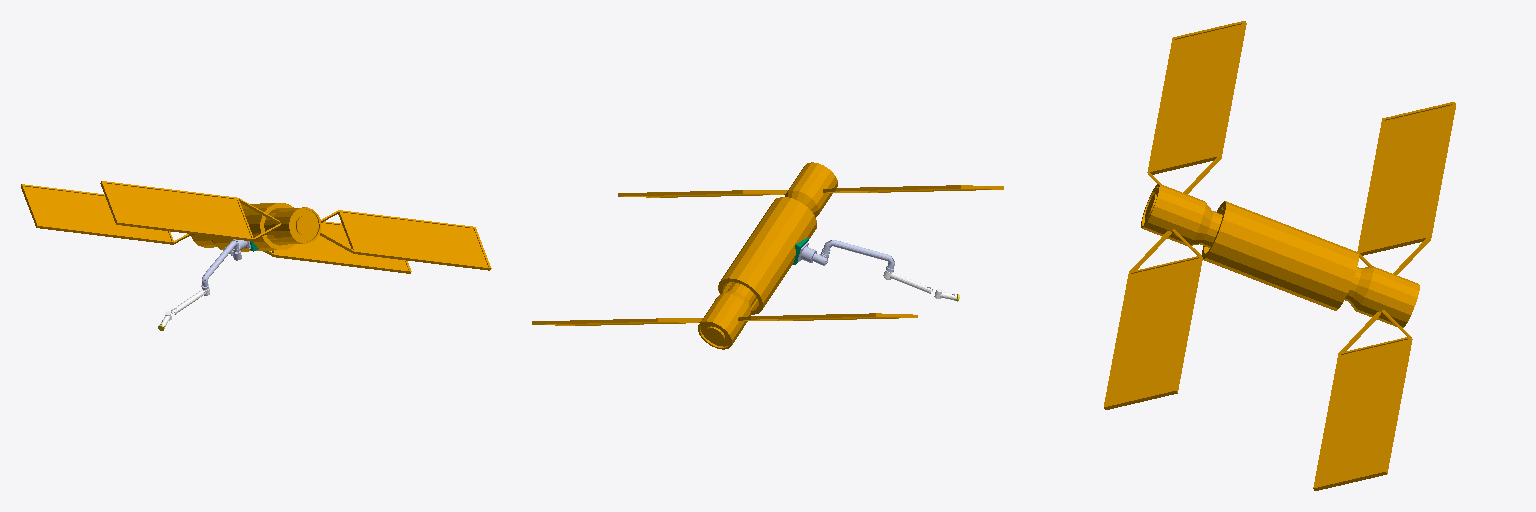
URDF robot description (satellite_13__starlink_sldasm9):
<?xml version='1.0' encoding='utf-8'?>
<robot name="satellite_13__starlink_sldasm9">
  <link name="base_link">
    <visual>
      <geometry>
        <mesh filename="../satellites/satellite_13/satellite.stl" />
      </geometry>
    </visual>
    <collision>
      <geometry>
        <mesh filename="../satellites/satellite_13/satellite.stl" />
      </geometry>
    </collision>
  </link>
  <link name="satellite_13_mount" />
  <joint name="satellite_mount_fixed" type="fixed">
    <parent link="base_link" />
    <child link="satellite_13_mount" />
    <origin xyz="-0.4318182499635565 -0.4150752094962243 0.029176153837355293" rpy="-3.141592653589793 -1.325373661799296 -3.034633267420518" />
  </joint>
  <link name="mount_support">
    <visual>
      <geometry>
        <mesh filename="../satellites/satellite_13/mount_support.stl" />
      </geometry>
    </visual>
    <collision>
      <geometry>
        <mesh filename="../satellites/satellite_13/mount_support.stl" />
      </geometry>
    </collision>
  </link>
  <joint name="support_fixed" type="fixed">
    <parent link="satellite_13_mount" />
    <child link="mount_support" />
    <origin xyz="0 0 0" rpy="0 0 0" />
  </joint>
  <joint name="arm_adapter_fixed" type="fixed">
    <parent link="satellite_13_mount" />
    <child link="starlink_space_manipulator_base_link" />
    <origin xyz="0.009087204933166504 0.008519247174263 0.16000000119209304" rpy="-1.5707963267948966 0 0.0" />
  </joint>
  <link name="starlink_space_manipulator_base_link">
    <inertial>
      <origin xyz="-0.00908719924946466 0.0225428225681148 -0.00851924929637313" rpy="0 0 0" />
      <mass value="8.66024015898073" />
      <inertia ixx="0.0960303512697639" ixy="1.65511904636803E-18" ixz="6.22039820639877E-19" iyy="0.103454922260914" iyz="-9.68471289978311E-19" izz="0.0960303512697639" />
    </inertial>
    <visual>
      <origin xyz="0 0 0" rpy="0 0 0" />
      <geometry>
        <mesh filename="../arms/starlink_sldasm9/meshes/starlink_space_manipulator_base_link.STL" />
      </geometry>
      <material name="">
        <color rgba="0.792156862745098 0.819607843137255 0.933333333333333 1" />
      </material>
    </visual>
    <collision>
      <origin xyz="0 0 0" rpy="0 0 0" />
      <geometry>
        <mesh filename="../arms/starlink_sldasm9/meshes/starlink_space_manipulator_base_link.STL" />
      </geometry>
    </collision>
  </link>
  <link name="starlink_space_manipulator_Shoulder_link_1">
    <inertial>
      <origin xyz="-0.000399471745595769 -0.100006574194712 -0.17423940484461" rpy="0 0 0" />
      <mass value="5.16309216784981" />
      <inertia ixx="0.0524543852135592" ixy="0.00348154867667969" ixz="6.96526910910627E-05" iyy="0.0306595326318824" iyz="-0.00056674368052247" izz="0.0439979075615329" />
    </inertial>
    <visual>
      <origin xyz="0 0 0" rpy="0 0 0" />
      <geometry>
        <mesh filename="../arms/starlink_sldasm9/meshes/starlink_space_manipulator_Shoulder_link_1.STL" />
      </geometry>
      <material name="">
        <color rgba="0.792156862745098 0.819607843137255 0.933333333333333 1" />
      </material>
    </visual>
    <collision>
      <origin xyz="0 0 0" rpy="0 0 0" />
      <geometry>
        <mesh filename="../arms/starlink_sldasm9/meshes/starlink_space_manipulator_Shoulder_link_1.STL" />
      </geometry>
    </collision>
  </link>
  <joint name="starlink_space_manipulator_Shoulder_link_1_yaw" type="revolute">
    <origin xyz="-0.0090872 -0.065 -0.0085192" rpy="1.5708 -0.15574 3.1416" />
    <parent link="starlink_space_manipulator_base_link" />
    <child link="starlink_space_manipulator_Shoulder_link_1" />
    <axis xyz="0 0 -1" />
    <limit lower="-3.14" upper="3.14" effort="0" velocity="0" />
  </joint>
  <link name="starlink_space_manipulator_Upper_arm_Link_1">
    <inertial>
      <origin xyz="0.402106341472203 -0.696465272634528 -0.170177523085579" rpy="0 0 0" />
      <mass value="5.05309869040685" />
      <inertia ixx="0.388719013133801" ixy="0.210155896498943" ixz="9.30829370680679E-08" iyy="0.146049057575642" iyz="1.71830458004218E-07" izz="0.500677708275447" />
    </inertial>
    <visual>
      <origin xyz="0 0 0" rpy="0 0 0" />
      <geometry>
        <mesh filename="../arms/starlink_sldasm9/meshes/starlink_space_manipulator_Upper_arm_Link_1.STL" />
      </geometry>
      <material name="">
        <color rgba="0.792156862745098 0.819607843137255 0.933333333333333 1" />
      </material>
    </visual>
    <collision>
      <origin xyz="0 0 0" rpy="0 0 0" />
      <geometry>
        <mesh filename="../arms/starlink_sldasm9/meshes/starlink_space_manipulator_Upper_arm_Link_1.STL" />
      </geometry>
    </collision>
  </link>
  <joint name="starlink_space_manipulator_Upper_arm_Link_1_roll" type="revolute">
    <origin xyz="0 -0.2 -0.18" rpy="1.5708 0.90646 1.5708" />
    <parent link="starlink_space_manipulator_Shoulder_link_1" />
    <child link="starlink_space_manipulator_Upper_arm_Link_1" />
    <axis xyz="0 0 -1" />
    <limit lower="-2" upper="1.5" effort="0" velocity="0" />
  </joint>
  <link name="starlink_space_manipulator_Mid_arm_Link_1">
    <inertial>
      <origin xyz="-0.000406052776441013 0.317722269561105 0.0155331755135703" rpy="0 0 0" />
      <mass value="1.57635531881168" />
      <inertia ixx="0.133610363618846" ixy="5.33750993405138E-05" ixz="-3.60473795202962E-09" iyy="0.00502119434334708" iyz="-2.514275749911E-05" izz="0.134586018527477" />
    </inertial>
    <visual>
      <origin xyz="0 0 0" rpy="0 0 0" />
      <geometry>
        <mesh filename="../arms/starlink_sldasm9/meshes/starlink_space_manipulator_Mid_arm_Link_1.STL" />
      </geometry>
      <material name="">
        <color rgba="1 1 1 1" />
      </material>
    </visual>
    <collision>
      <origin xyz="0 0 0" rpy="0 0 0" />
      <geometry>
        <mesh filename="../arms/starlink_sldasm9/meshes/starlink_space_manipulator_Mid_arm_Link_1.STL" />
      </geometry>
    </collision>
  </link>
  <joint name="starlink_space_manipulator_Mid_arm_Link_1_roll" type="revolute">
    <origin xyz="0.599999999999673 -1.03923048454122 0" rpy="-3.14159265358979 0 0.828250280535091" />
    <parent link="starlink_space_manipulator_Upper_arm_Link_1" />
    <child link="starlink_space_manipulator_Mid_arm_Link_1" />
    <axis xyz="0 0 -1" />
    <limit lower="-3.14" upper="3.14" effort="0" velocity="0" />
  </joint>
  <link name="starlink_space_manipulator_Upper_wrist_Link_1">
    <inertial>
      <origin xyz="-0.000400003664721815 -0.201565878030355 -0.00216705855311664" rpy="0 0 0" />
      <mass value="0.994770641034713" />
      <inertia ixx="0.00165409639029414" ixy="-7.59103925411082E-06" ixz="-3.17403155320863E-06" iyy="0.00201437937768072" iyz="2.63246464091218E-06" izz="0.00159638838344539" />
    </inertial>
    <visual>
      <origin xyz="0 0 0" rpy="0 0 0" />
      <geometry>
        <mesh filename="../arms/starlink_sldasm9/meshes/starlink_space_manipulator_Upper_wrist_Link_1.STL" />
      </geometry>
      <material name="">
        <color rgba="0.792156862745098 0.819607843137255 0.933333333333333 1" />
      </material>
    </visual>
    <collision>
      <origin xyz="0 0 0" rpy="0 0 0" />
      <geometry>
        <mesh filename="../arms/starlink_sldasm9/meshes/starlink_space_manipulator_Upper_wrist_Link_1.STL" />
      </geometry>
    </collision>
  </link>
  <joint name="starlink_space_manipulator_Upper_wrist_Link_1_yaw" type="revolute">
    <origin xyz="-0.00050155183276912 0.686793643713439 0.0155010481432086" rpy="0 -0.0763876794035917 3.14159265358979" />
    <parent link="starlink_space_manipulator_Mid_arm_Link_1" />
    <child link="starlink_space_manipulator_Upper_wrist_Link_1" />
    <axis xyz="0 -1 0" />
    <limit lower="-3.14" upper="3.14" effort="0" velocity="0" />
  </joint>
  <link name="starlink_space_manipulator_Upper_wrist_Link_2">
    <inertial>
      <origin xyz="8.45304168883843E-08 0.0848318719623631 -0.00515657391755576" rpy="0 0 0" />
      <mass value="1.03716823037577" />
      <inertia ixx="0.0100970561498589" ixy="1.32295633551837E-09" ixz="-9.43675929999229E-09" iyy="0.00222325407426665" iyz="-2.08772874866187E-06" izz="0.0105840577017538" />
    </inertial>
    <visual>
      <origin xyz="0 0 0" rpy="0 0 0" />
      <geometry>
        <mesh filename="../arms/starlink_sldasm9/meshes/starlink_space_manipulator_Upper_wrist_Link_2.STL" />
      </geometry>
      <material name="">
        <color rgba="1 1 1 1" />
      </material>
    </visual>
    <collision>
      <origin xyz="0 0 0" rpy="0 0 0" />
      <geometry>
        <mesh filename="../arms/starlink_sldasm9/meshes/starlink_space_manipulator_Upper_wrist_Link_2.STL" />
      </geometry>
    </collision>
  </link>
  <joint name="starlink_space_manipulator_Upper_wrist_Link_2_roll" type="revolute">
    <origin xyz="0 -0.30020635628656 0" rpy="-0.0158640776811277 -0.0317448426184613 -2.67805461574742" />
    <parent link="starlink_space_manipulator_Upper_wrist_Link_1" />
    <child link="starlink_space_manipulator_Upper_wrist_Link_2" />
    <axis xyz="0 0 1" />
    <limit lower="-2.5" upper="1.8" effort="0" velocity="0" />
  </joint>
  <link name="starlink__space_manipulator_2F-Body_Link">
    </link>
  <joint name="starlink__space_manipulator_2F-Body_Link_yaw" type="revolute">
    <origin xyz="0 0.34845 -0.0053813" rpy="-3.1416 0.93592 0" />
    <parent link="starlink_space_manipulator_Upper_wrist_Link_2" />
    <child link="starlink__space_manipulator_2F-Body_Link" />
    <axis xyz="0 -1 0" />
    <limit lower="-3.14" upper="3.14" effort="0" velocity="0" />
  </joint>
  <link name="angular_hand">
    <visual>
      <geometry>
        <mesh filename="../arms/starlink_sldasm9/meshes/hand_2finger.STL" scale="2 2 2" />
      </geometry>
    </visual>
    <collision>
      <geometry>
        <mesh filename="../arms/starlink_sldasm9/meshes/hand_2finger.STL" scale="2 2 2" />
      </geometry>
    </collision>
  </link>
  <joint name="angular_hand_fixed" type="fixed">
    <parent link="starlink__space_manipulator_2F-Body_Link" />
    <child link="angular_hand" />
    <origin xyz="0 -0.036 0" rpy="-1.5707963267948966 0 0" />
  </joint>
  <link name="angular_adapter">
    <visual>
      <geometry>
        <mesh filename="../arms/starlink_sldasm9/meshes/angular_adapter.stl" />
      </geometry>
    </visual>
    <collision>
      <geometry>
        <mesh filename="../arms/starlink_sldasm9/meshes/angular_adapter.stl" />
      </geometry>
    </collision>
  </link>
  <joint name="angular_adapter_fixed" type="fixed">
    <parent link="starlink__space_manipulator_2F-Body_Link" />
    <child link="angular_adapter" />
    <origin xyz="0 -0.0005 0" rpy="1.5707963267948966 0 0" />
  </joint>
  <link name="angular_finger_1">
    <visual>
      <geometry>
        <mesh filename="../arms/starlink_sldasm9/meshes/finger_proximal.STL" scale="2 2 2" />
      </geometry>
    </visual>
    <collision>
      <geometry>
        <mesh filename="../arms/starlink_sldasm9/meshes/finger_proximal.STL" scale="2 2 2" />
      </geometry>
    </collision>
  </link>
  <link name="angular_tip_1">
    <visual>
      <geometry>
        <mesh filename="../arms/starlink_sldasm9/meshes/finger_distal.STL" scale="2 2 2" />
      </geometry>
    </visual>
    <collision>
      <geometry>
        <mesh filename="../arms/starlink_sldasm9/meshes/finger_distal.STL" scale="2 2 2" />
      </geometry>
    </collision>
  </link>
  <joint name="angular_joint_1" type="revolute">
    <parent link="angular_hand" />
    <child link="angular_finger_1" />
    <axis xyz="0 0 1" />
    <origin xyz="-0.005 0.0619 -0.22964" rpy="-1.570796327 .649262481663582 1.5707963267948966" />
    <limit lower="0" upper="1.51" effort="2" velocity="1" />
  </joint>
  <joint name="angular_joint_tip_1" type="revolute">
    <parent link="angular_finger_1" />
    <child link="angular_tip_1" />
    <axis xyz="0 0 1" />
    <origin xyz="0.088 -0.006 0.0" rpy="0 0 0" />
    <limit lower="0" upper="2" effort="2" velocity="1" />
  </joint>
  <link name="angular_finger_2">
    <visual>
      <geometry>
        <mesh filename="../arms/starlink_sldasm9/meshes/finger_proximal.STL" scale="2 2 2" />
      </geometry>
    </visual>
    <collision>
      <geometry>
        <mesh filename="../arms/starlink_sldasm9/meshes/finger_proximal.STL" scale="2 2 2" />
      </geometry>
    </collision>
  </link>
  <link name="angular_tip_2">
    <visual>
      <geometry>
        <mesh filename="../arms/starlink_sldasm9/meshes/finger_distal.STL" scale="2 2 2" />
      </geometry>
    </visual>
    <collision>
      <geometry>
        <mesh filename="../arms/starlink_sldasm9/meshes/finger_distal.STL" scale="2 2 2" />
      </geometry>
    </collision>
  </link>
  <joint name="angular_joint_2" type="revolute">
    <parent link="angular_hand" />
    <child link="angular_finger_2" />
    <axis xyz="0 0 1" />
    <origin xyz="-0.005 -0.0619 -0.22964" rpy="-1.570796327 .649262481663582 -1.5707963267948966" />
    <limit lower="0" upper="1.51" effort="2" velocity="1" />
  </joint>
  <joint name="angular_joint_tip_2" type="revolute">
    <parent link="angular_finger_2" />
    <child link="angular_tip_2" />
    <axis xyz="0 0 1" />
    <origin xyz="0.088 -0.006 0.0" rpy="0 0 0" />
    <limit lower="0" upper="2" effort="2" velocity="1" />
  </joint>
  <link name="angular_tcp" />
  <joint name="angular_tcp_fixed" type="fixed">
    <parent link="angular_hand" />
    <child link="angular_tcp" />
    <origin xyz="-0.005 0 -0.34" rpy="3.141592653589793 0 0" />
  </joint>
</robot>

--- What the picture shows (computed from the rendered views, not written in the file) ---
The picture shows the robot from 3 angles, left to right: view 1: azimuth 30°, elevation 25°; view 2: azimuth 150°, elevation 25°; view 3: azimuth 270°, elevation 25°; orthographic projection.
Model satellite_13__starlink_sldasm9 with 17 links and 16 joints (10 revolute, 6 fixed), rooted at base_link, posed every joint at zero.
Links seen in each view (by area): view 1: base_link; view 2: base_link, starlink_space_manipulator_Upper_arm_Link_1; view 3: base_link.
Link boxes in pixels (box(x1,y1,x2,y2)): base_link: box(21, 181, 491, 273); base_link: box(532, 162, 1003, 349); starlink_space_manipulator_Upper_arm_Link_1: box(823, 240, 894, 279); base_link: box(1104, 21, 1455, 490).
Bounding box of the posed robot: 8 × 5.16 × 4.13 m (x, y, z).
Meshes: 12 distinct files referenced, 8 mesh visuals loaded (8 binary STL); not drawn: 6 (reference not matched to a file when rendering).
